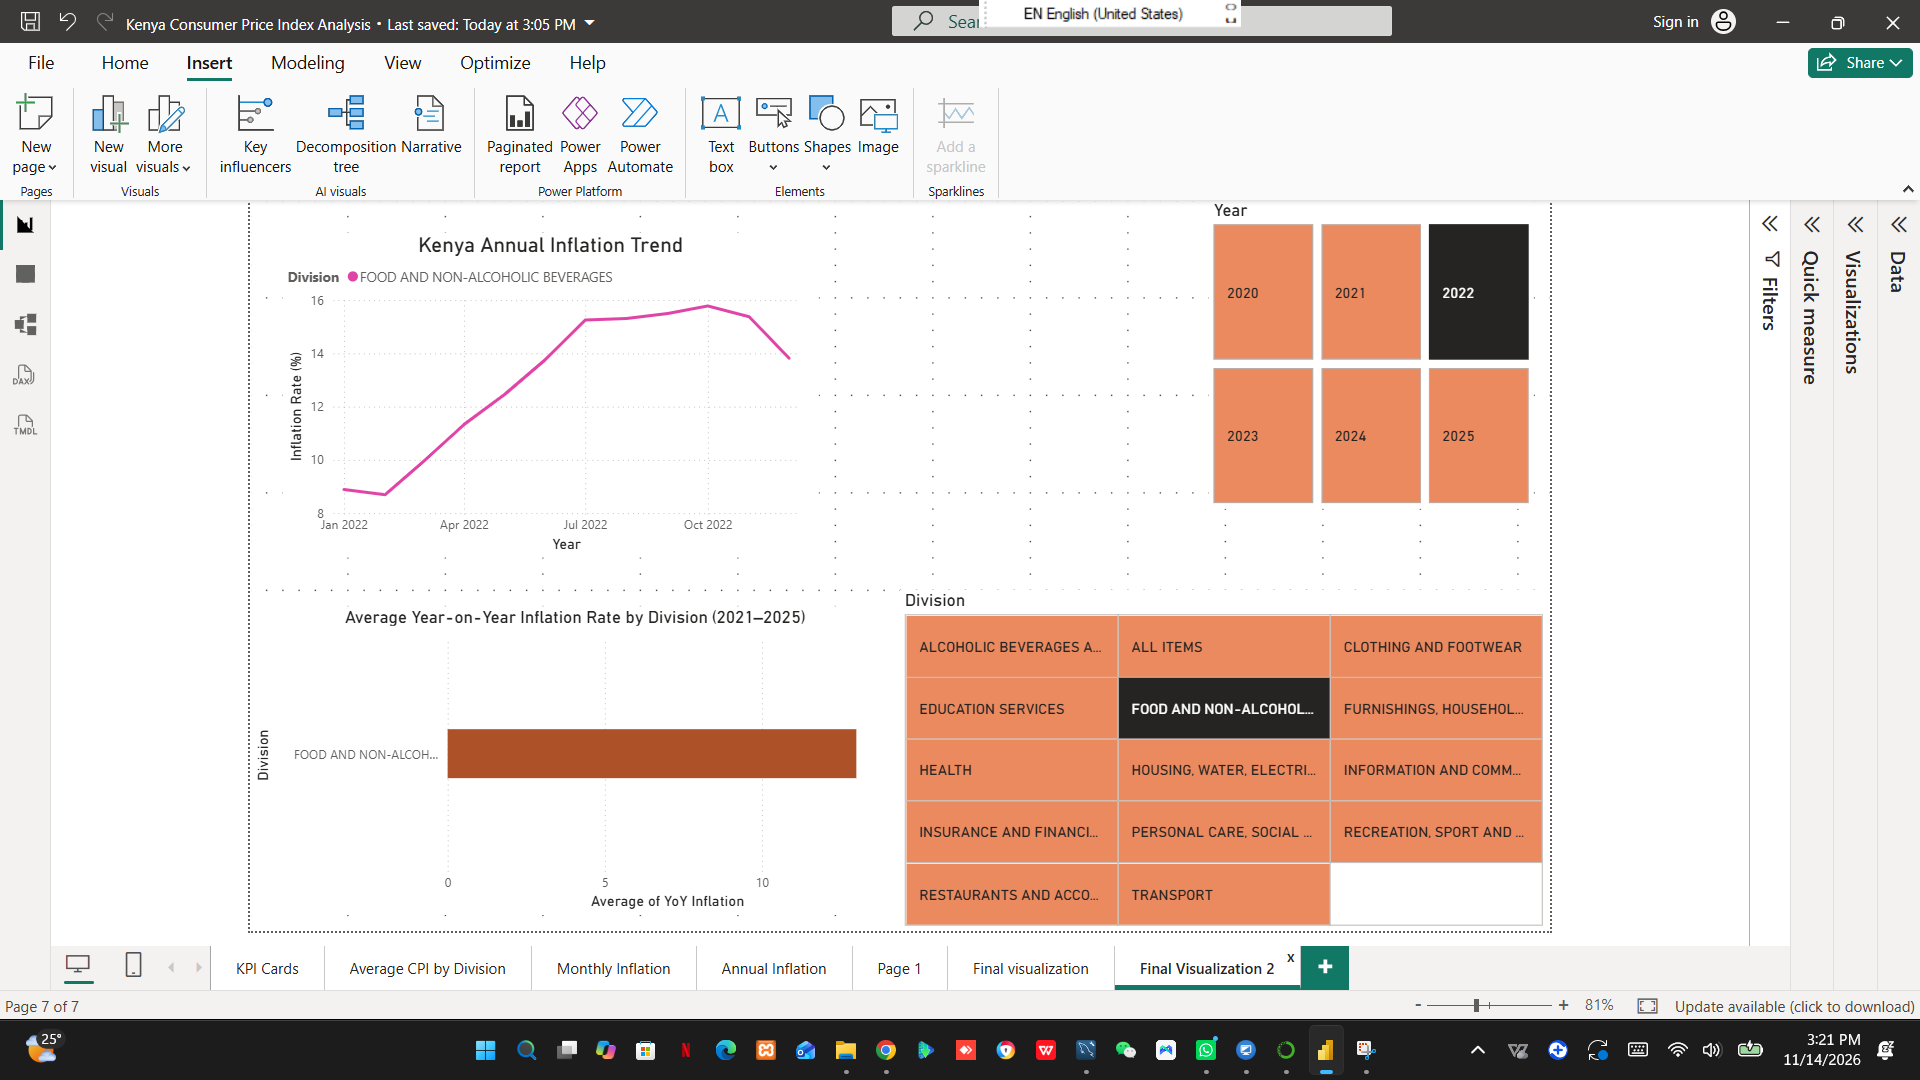

The dashboard page shown, as its layout file describes it:
{"tool":"powerbi","page":{"name":"Final Visualization 2","canvas":[1280,720],"ordinal":6},"visuals":[{"type":"lineChart","title":"Kenya Annual Inflation Trend","fields":{"Y":["Avg(kenya_cpi_cleaned_2020_2025.YoY Inflation)"],"Series":["kenya_cpi_cleaned_2020_2025.Division"],"Category":["kenya_cpi_cleaned_2020_2025.Date.Variation.Date Hierarchy.Year","kenya_cpi_cleaned_2020_2025.Date.Variation.Date Hierarchy.Quarter","kenya_cpi_cleaned_2020_2025.Date.Variation.Date Hierarchy.Month","kenya_cpi_cleaned_2020_2025.Date.Variation.Date Hierarchy.Day"]},"box":[32,32,528,320],"z":0},{"type":"advancedSlicerVisual","fields":{"Values":["kenya_cpi_cleaned_2020_2025.Date.Variation.Date Hierarchy.Year"]},"box":[944,0,320,304],"z":1000},{"type":"advancedSlicerVisual","fields":{"Values":["kenya_cpi_cleaned_2020_2025.Division"]},"box":[640,384,640,336],"z":2000},{"type":"clusteredBarChart","title":"Average Year-on-Year Inflation Rate by Division (2021–2025)","fields":{"Category":["kenya_cpi_cleaned_2020_2025.Division"],"Y":["Avg(kenya_cpi_cleaned_2020_2025.YoY Inflation)"]},"box":[0,400,640,304],"z":3000}]}

Visuals, with their boxes on the page's 1280x720 design canvas (x1, y1, x2, y2). These are canvas units, not pixel positions in the 1920x1080 screenshot, which may show the page scaled, cropped or inside an application window:
"Kenya Annual Inflation Trend" lineChart: 32,32,560,352
advancedSlicerVisual - kenya_cpi_cleaned_2020_2025.Date.Variation.Date Hierarchy.Year: 944,0,1264,304
advancedSlicerVisual - kenya_cpi_cleaned_2020_2025.Division: 640,384,1280,720
"Average Year-on-Year Inflation Rate by Division (2021–2025)" clusteredBarChart: 0,400,640,704
